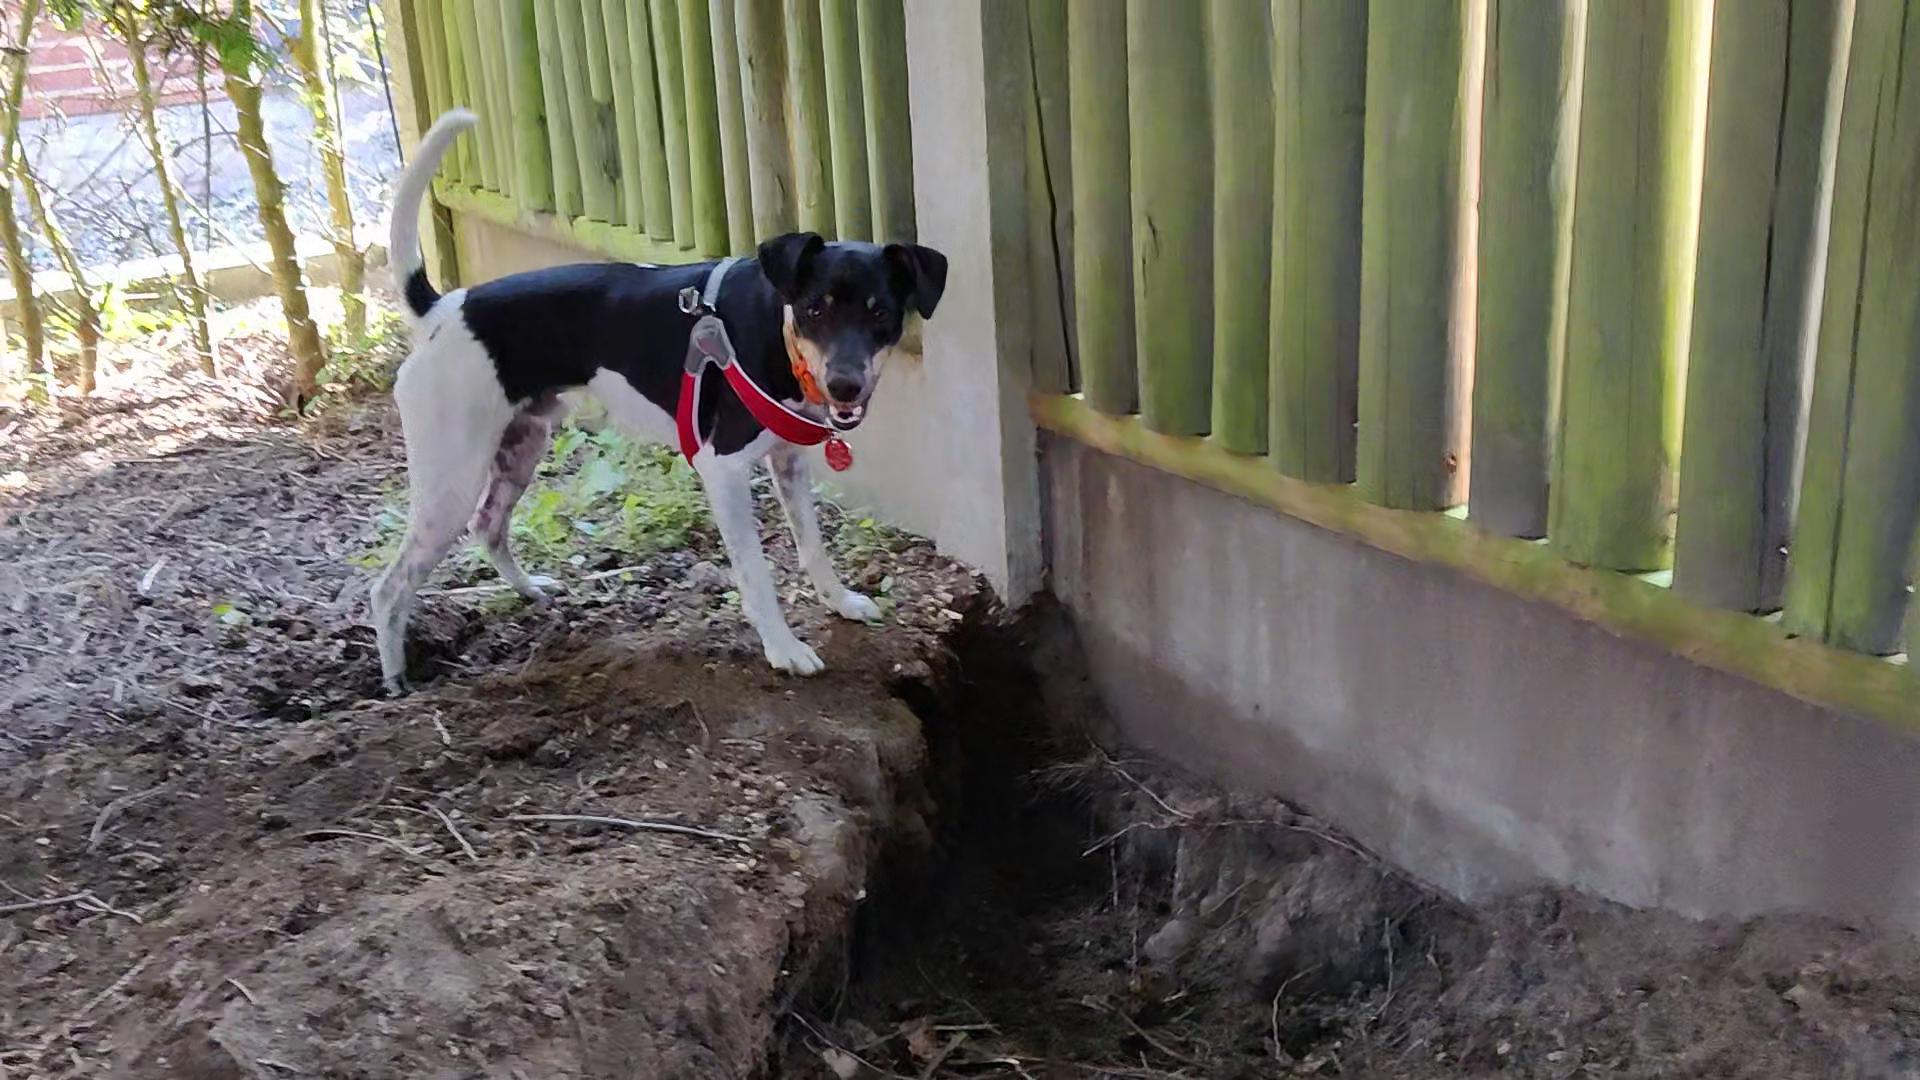Dog: (353, 95, 955, 698)
